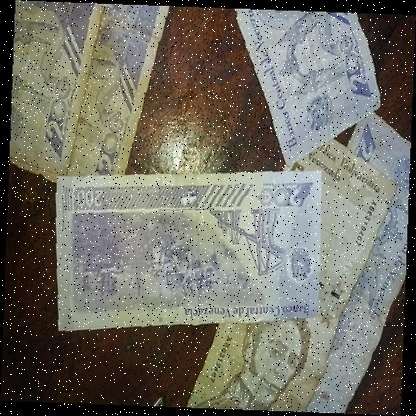five-front-vef: (185, 131, 398, 416)
ten-back-vef: (271, 111, 411, 416), (3, 0, 170, 182), (234, 0, 382, 166), (0, 0, 98, 174)
two_hundred-back-vef: (53, 172, 322, 330)
